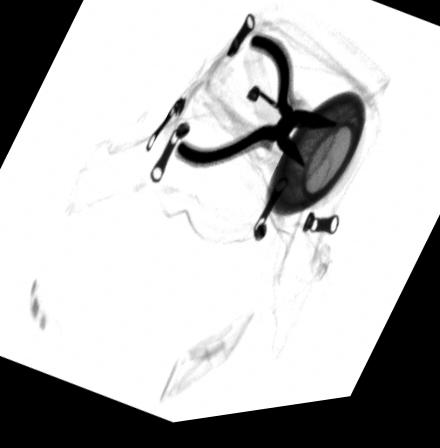Pliers: (173, 41, 340, 178)
